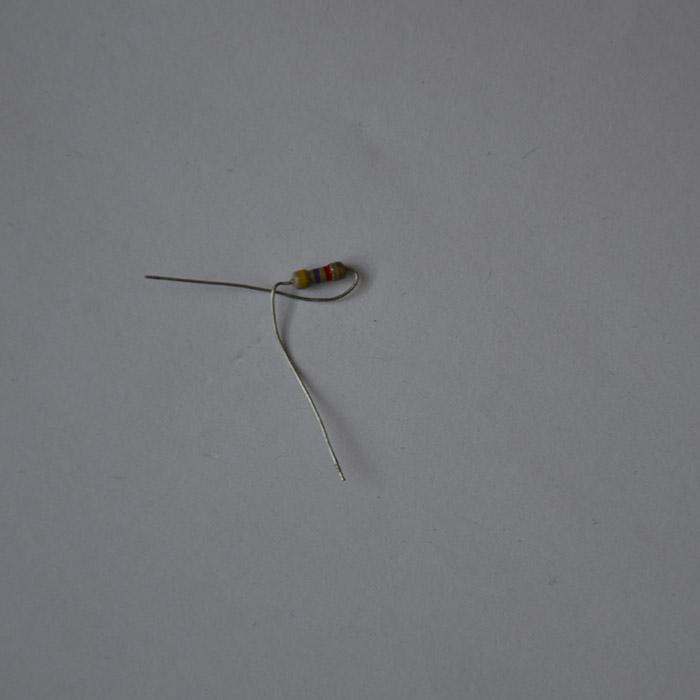resistor: (290, 261, 347, 289)
